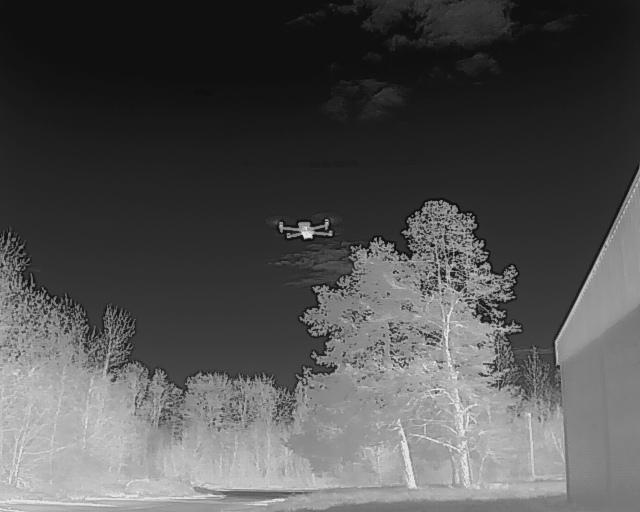drone: (271, 214, 338, 249)
